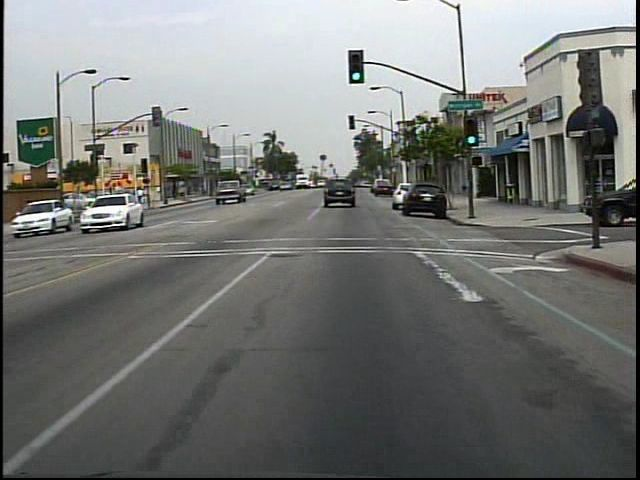person: (134, 184, 150, 209)
